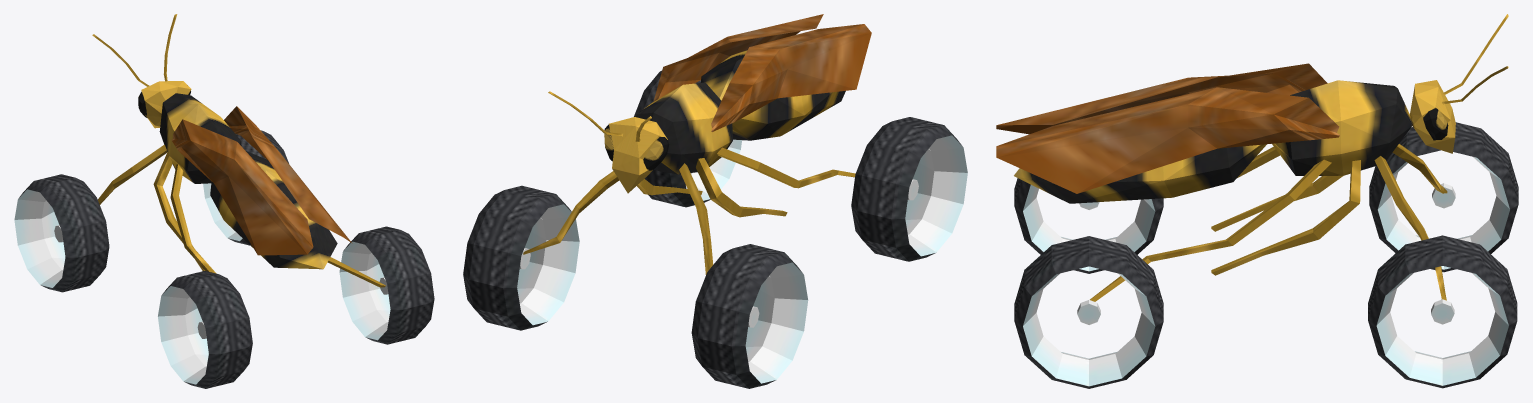
File: hornetshow.glb
3 renders of one model, left to right at view 1: azimuth 30°, elevation 25°; view 2: azimuth 150°, elevation 25°; view 3: azimuth 270°, elevation 25°, orthographic. The views are drawn at different scales.
Parts seen in each view (by area): view 1: wings64, wheellf128, wheellr128, wheelrr128, ZtoY, legs64, wheelrf128, antenna64; view 2: wheellr128, wheellf128, wheelrf128, wings64, ZtoY, legs64, wheelrr128, eyes64; view 3: wings64, ZtoY, wheelrf128, wheelrr128, legs64, wheellf128, wheellr128, eyes64, antenna64.
Part boxes in pixels (box(x1,y1,x2,y2)): wings64: box(171, 106, 352, 255); wheellf128: box(14, 174, 109, 292); wheellr128: box(158, 271, 252, 388); wheelrr128: box(339, 226, 434, 344); ZtoY: box(141, 81, 337, 269); legs64: box(98, 144, 385, 287); wheelrf128: box(203, 130, 288, 245); antenna64: box(92, 14, 177, 86); wheellr128: box(851, 117, 967, 261); wheellf128: box(691, 244, 808, 388); wheelrf128: box(463, 185, 579, 330); wings64: box(653, 14, 871, 131); ZtoY: box(609, 50, 845, 193); legs64: box(523, 147, 855, 274); wheelrr128: box(634, 70, 741, 207); eyes64: box(604, 124, 669, 170); wings64: box(996, 63, 1339, 193); ZtoY: box(1014, 80, 1455, 203); wheelrf128: box(1368, 235, 1517, 388); wheelrr128: box(1014, 236, 1163, 388); legs64: box(1090, 144, 1447, 301); wheellf128: box(1369, 122, 1518, 272); wheellr128: box(1014, 178, 1163, 273); eyes64: box(1423, 108, 1448, 140); antenna64: box(1442, 14, 1508, 104).
Size of the model in its own units: 4.59 by 4.15 by 6.89.
Materials: 2 (2 with a texture image).
